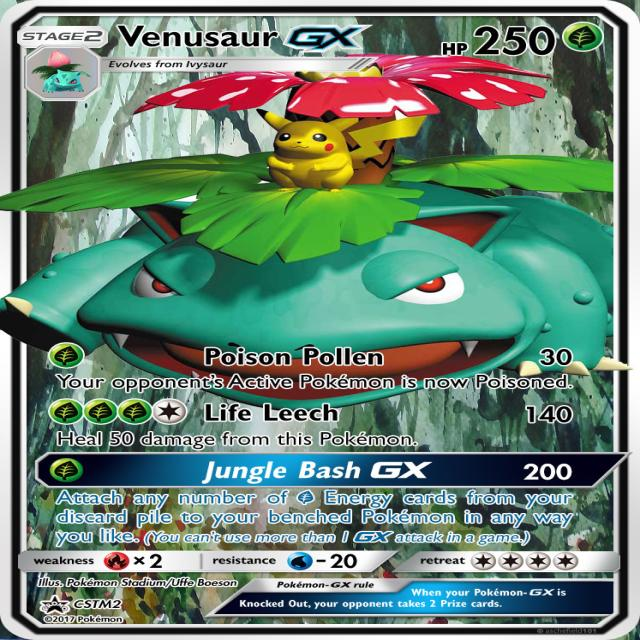Venusaur: (0, 53, 622, 400)
